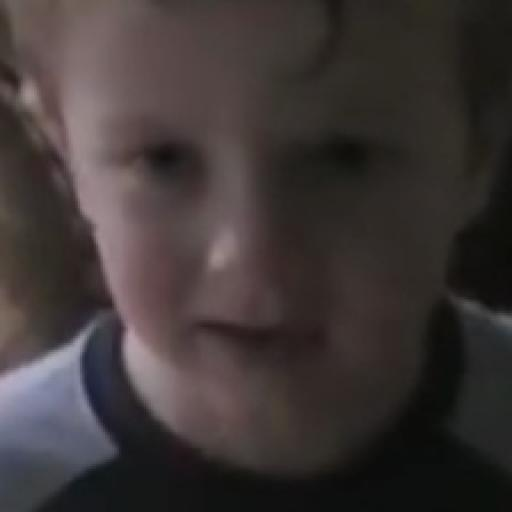Autism: (36, 0, 468, 446)
